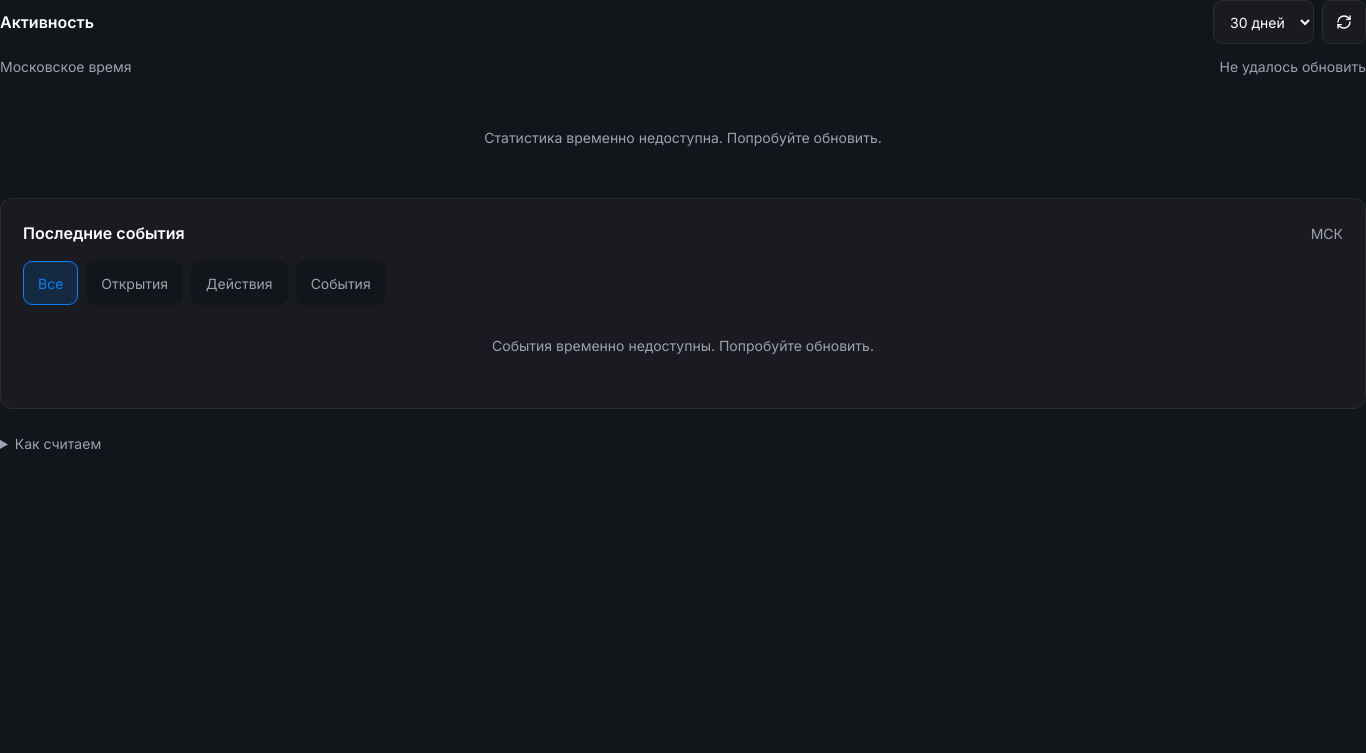
Test: error state hides stale totals and offers retry
Expected: the message "Статистика временно недоступна. Попробуйте обновить." is shown, [484, 129, 882, 146]
Click the button named "Обновить статистику" at (1344, 22), box [1322, 0, 1365, 44]
Wait 30 ms
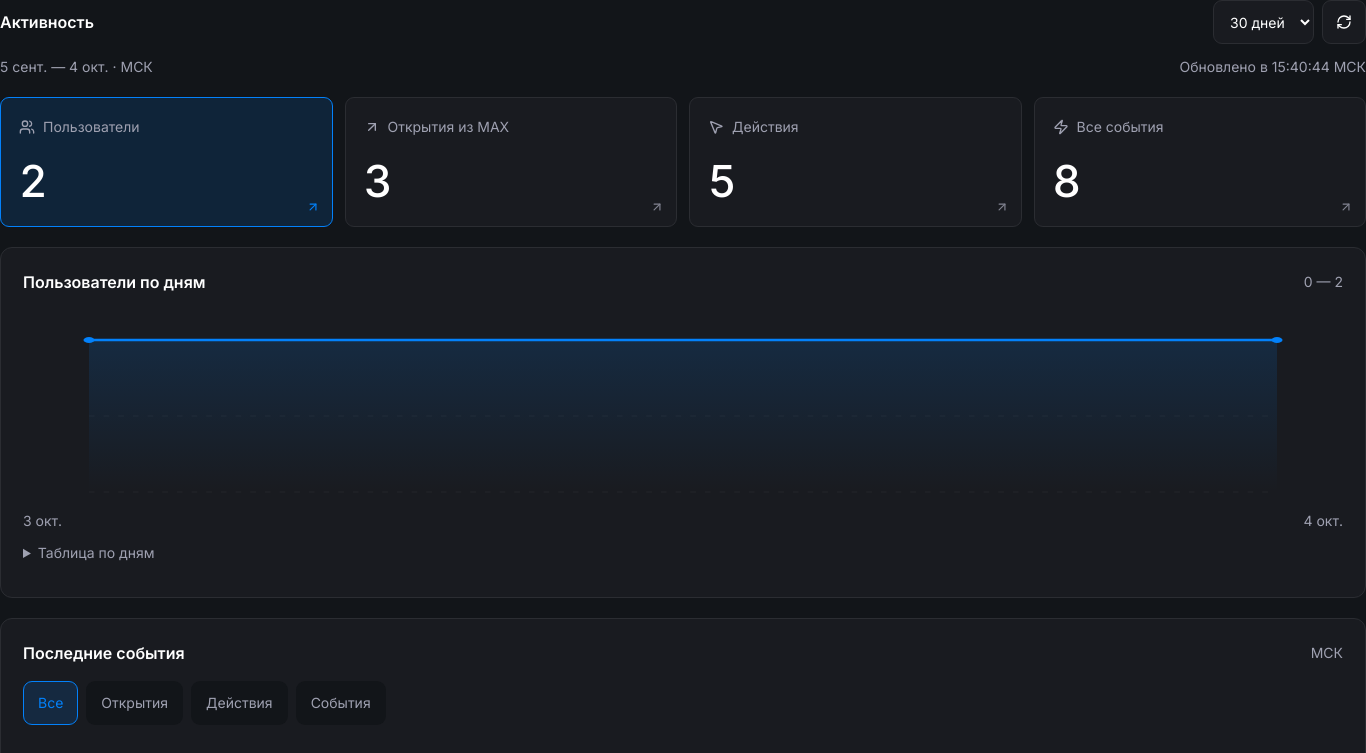
Now the text "2" is shown, box [19, 154, 46, 208]
